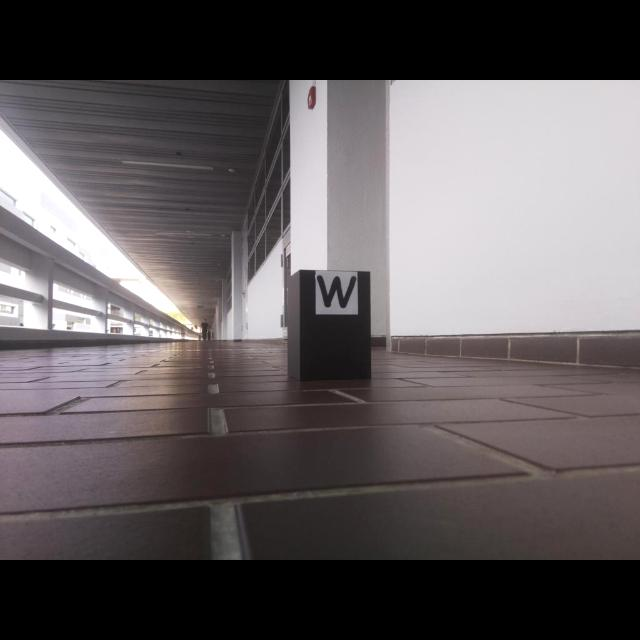W: (316, 275, 357, 309)
